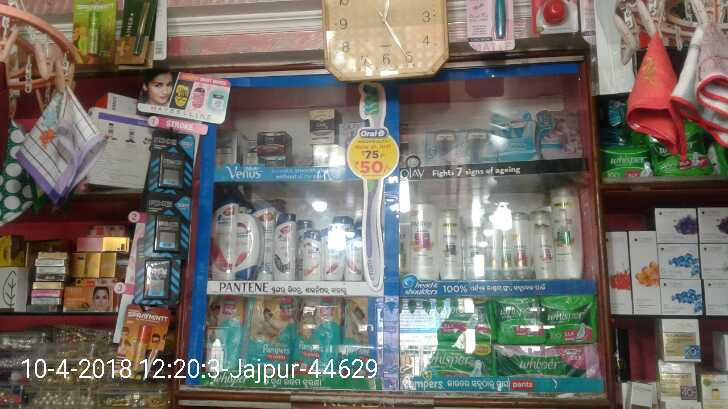venus: (539, 109, 583, 159), (494, 112, 539, 159), (400, 120, 430, 161), (434, 125, 462, 164), (465, 132, 489, 161)
